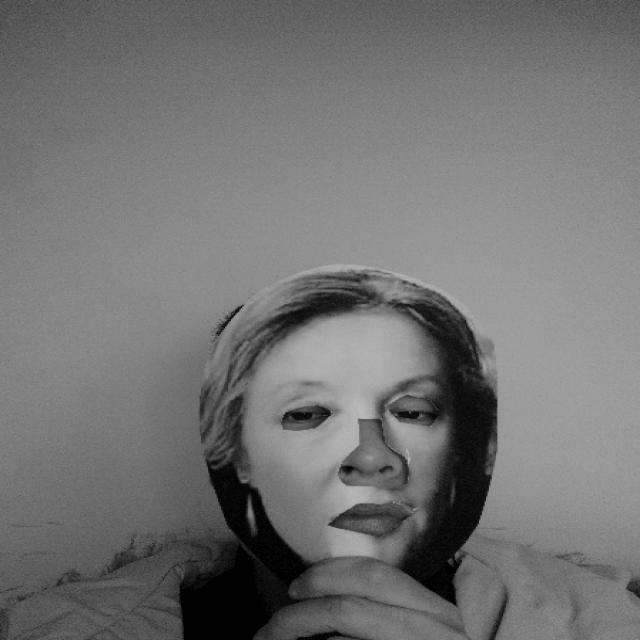real: (193, 264, 503, 603)
